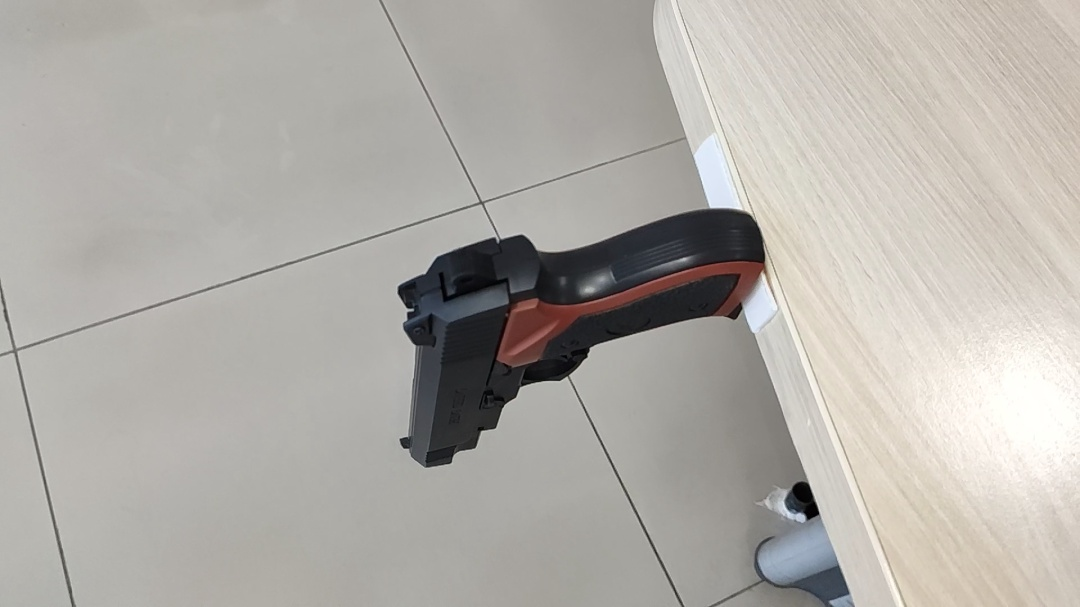gun: (392, 204, 769, 475)
